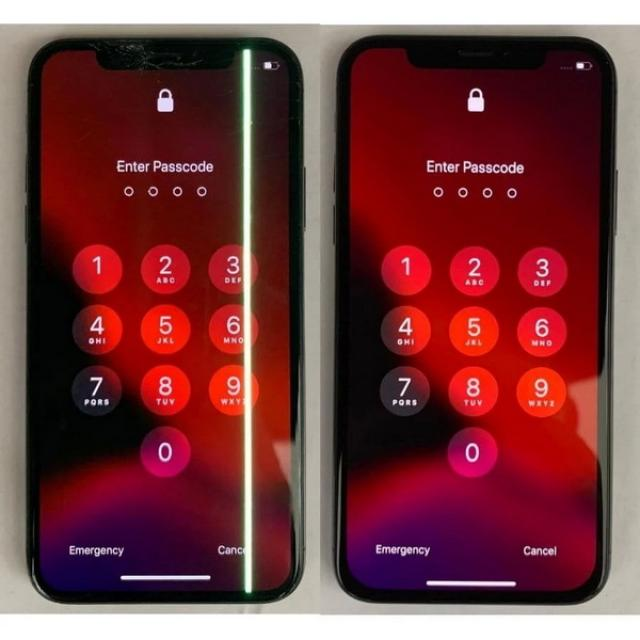phones: (337, 36, 612, 599), (27, 39, 302, 599)
